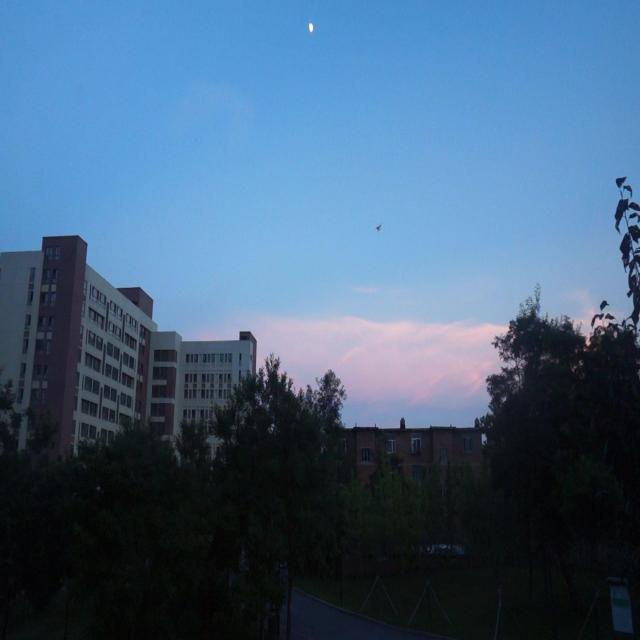drone: (374, 221, 385, 234)
